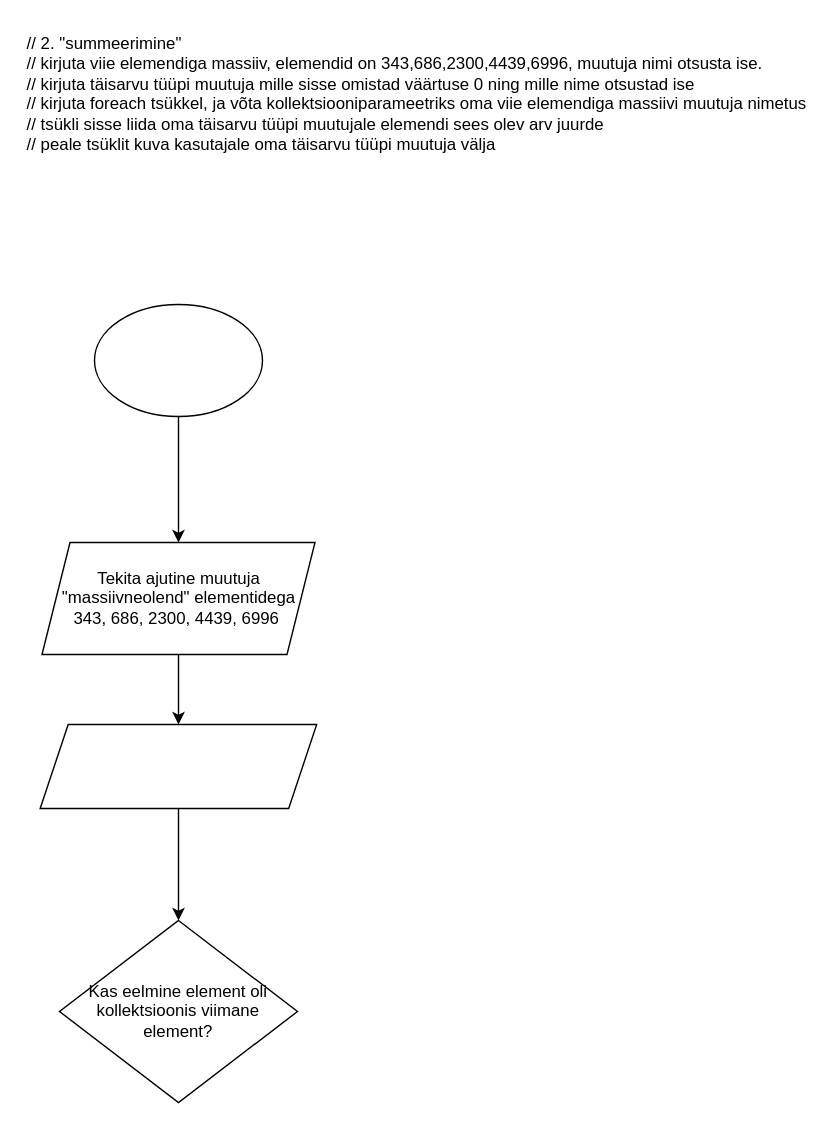
The diagram is 832 pixels wide and 1127 high, and some of its shapes have lost their labels. Here are the shapes that lost their labels. From the top down, the box of each, then its label:
(93, 303, 262, 416): algus
(39, 723, 317, 808): Tekita täisarvumuutuja "minimaalneolend" mille sisse omistad väärtuse 0
